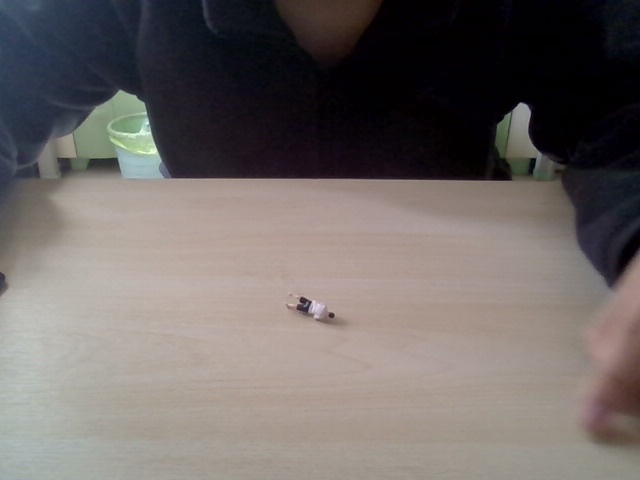fall: (278, 286, 341, 327)
